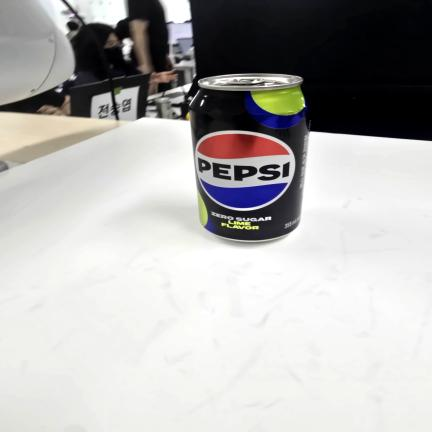can_pepsi_zero: (190, 73, 309, 242)
